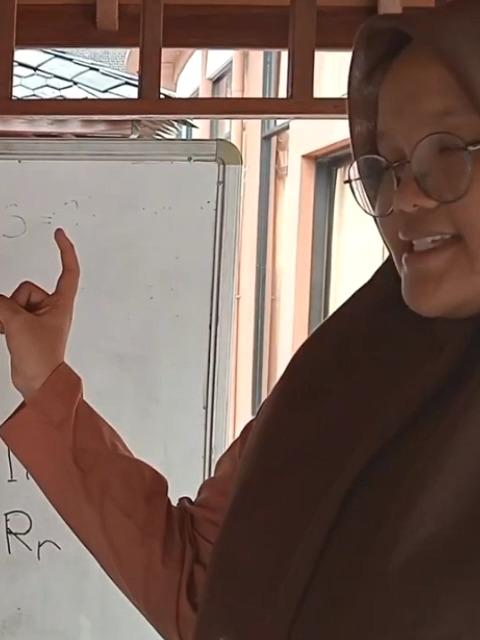X: (0, 223, 84, 381)
